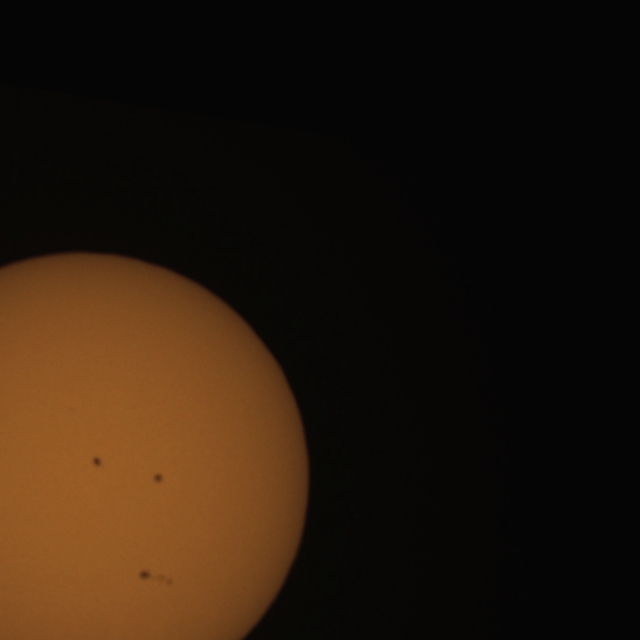sunspot: (137, 568, 176, 588), (152, 472, 165, 486), (91, 455, 103, 469)
